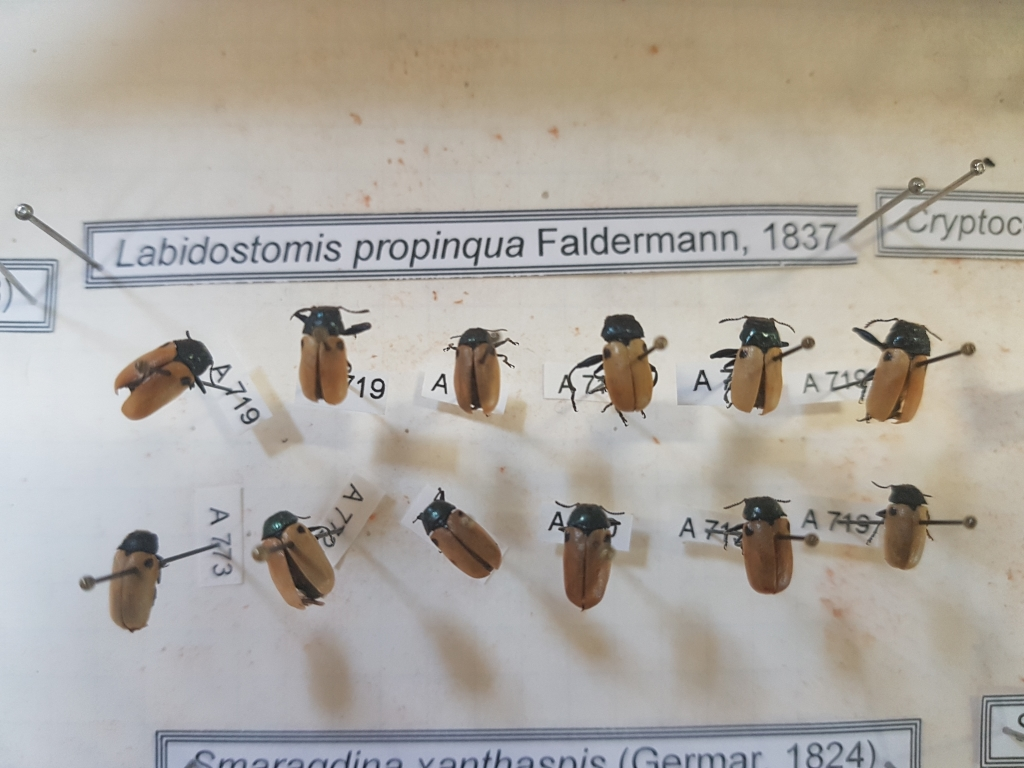Labidostomis_propinqua: (558, 313, 653, 424), (849, 313, 943, 424), (412, 483, 513, 583), (549, 494, 631, 614), (114, 329, 217, 422), (251, 507, 342, 612), (288, 301, 372, 410), (721, 490, 806, 597), (712, 311, 796, 416), (860, 469, 936, 577), (444, 322, 519, 416), (107, 531, 170, 638)
